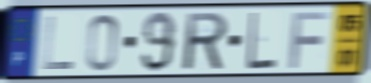0: (85, 11, 121, 73)
9: (140, 9, 176, 74)
F: (287, 10, 332, 71)
L: (246, 10, 278, 72), (41, 15, 75, 72)
R: (183, 10, 230, 73)
